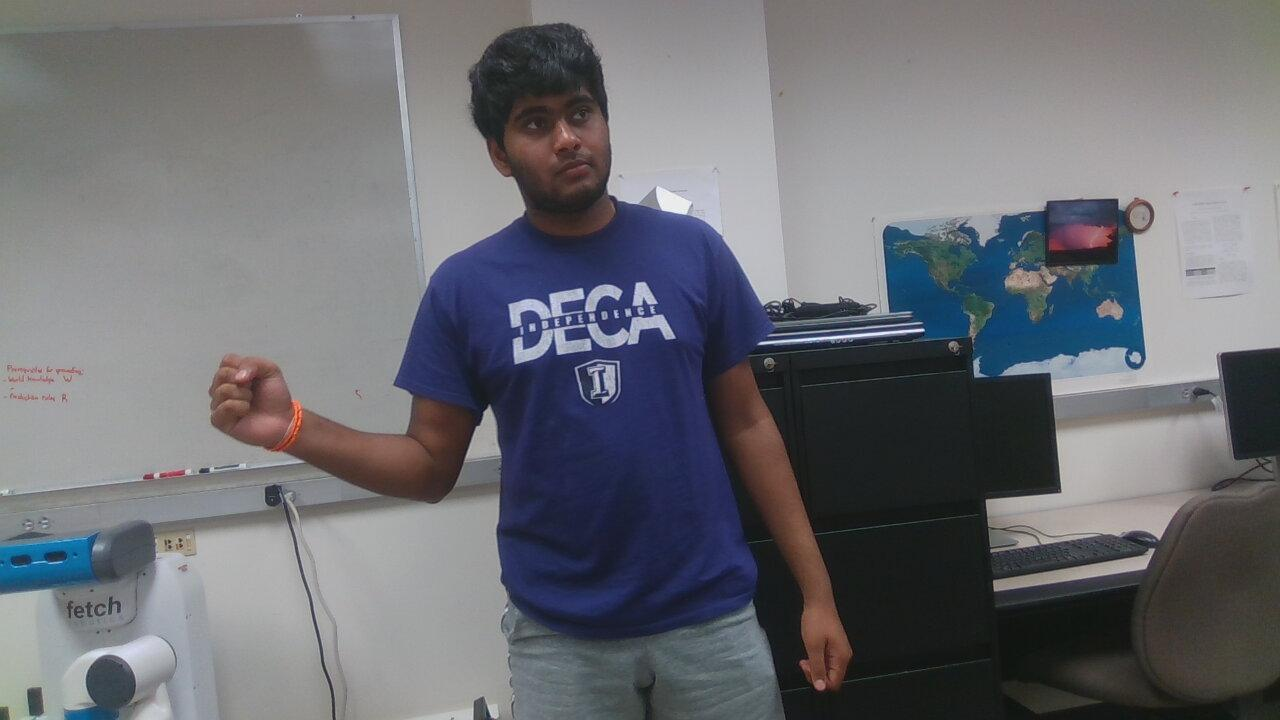fist: (198, 342, 302, 461)
hands: (791, 589, 864, 699)
